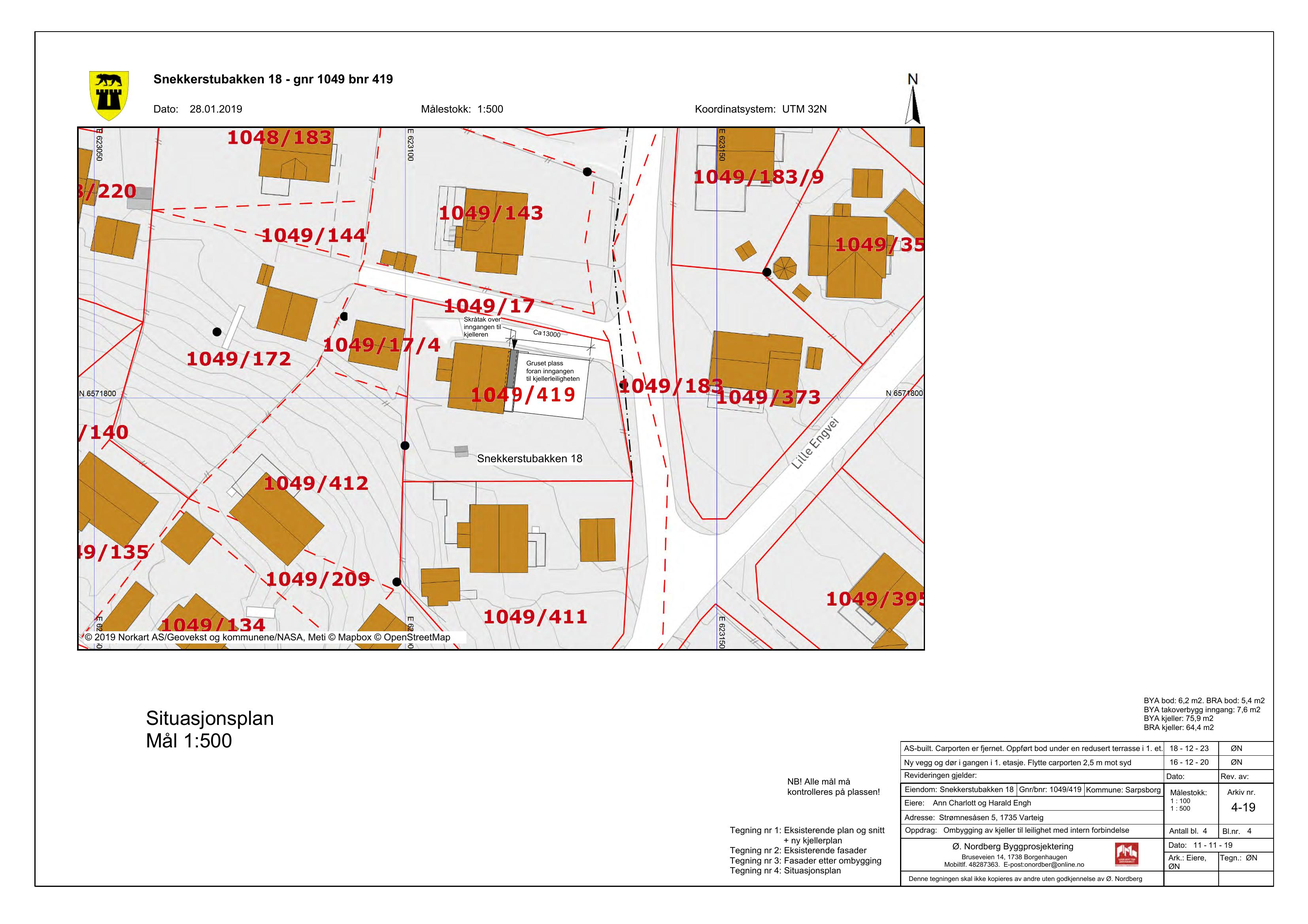situasjonskart: (76, 125, 925, 652)
